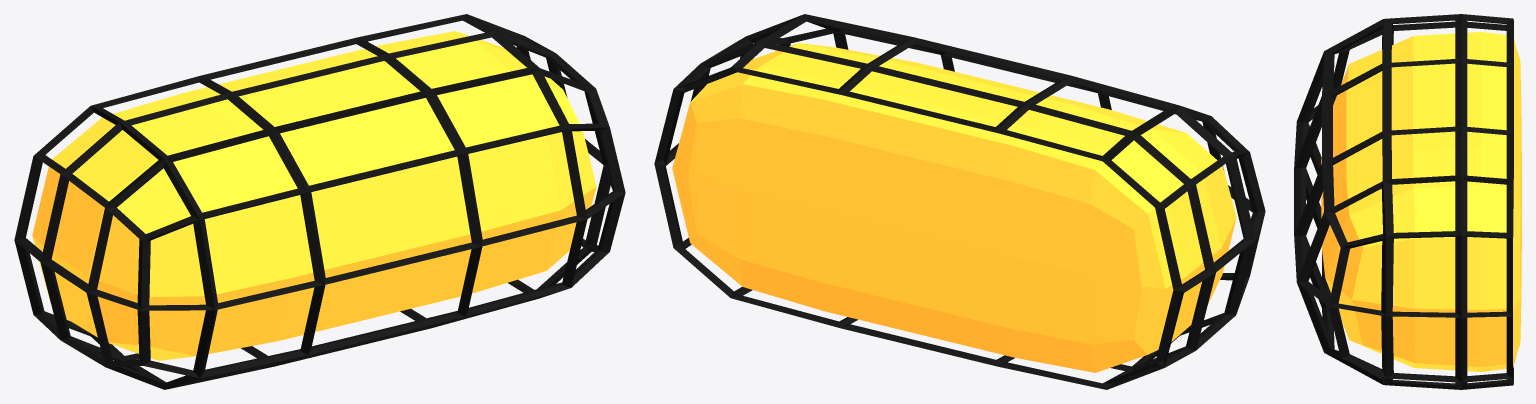
File: emergency-light.fbx
3 views of the same model, side by side, from view 1: azimuth 30°, elevation 25°; view 2: azimuth 150°, elevation 25°; view 3: azimuth 270°, elevation 25° (orthographic). The views are drawn at different scales.
Visible parts, largest first — view 1: emergency-light; view 2: emergency-light; view 3: emergency-light.
Part boxes in pixels (left/top/right/bottom): emergency-light: left=14, top=14, right=625, bottom=389; emergency-light: left=654, top=14, right=1265, bottom=389; emergency-light: left=1294, top=14, right=1521, bottom=389.
Size of the model in its own units: 0.5609 by 0.2473 by 0.2331.
Materials: 2 (1 with a texture image).
